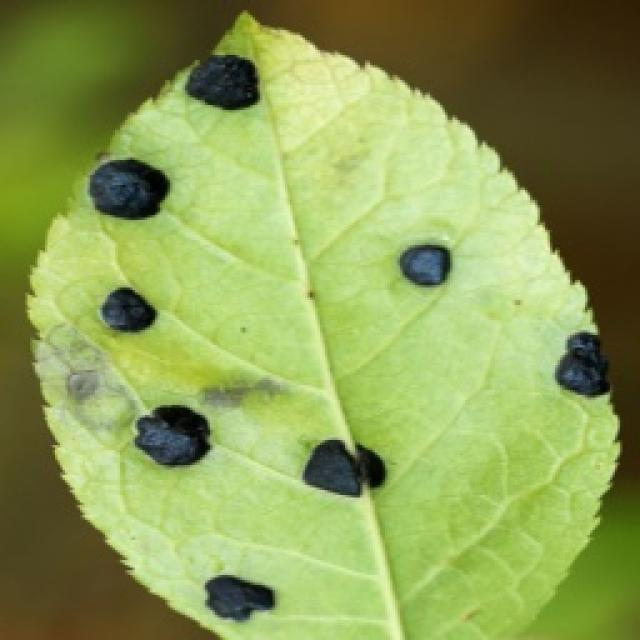Tar_Spot: (22, 8, 622, 638)
